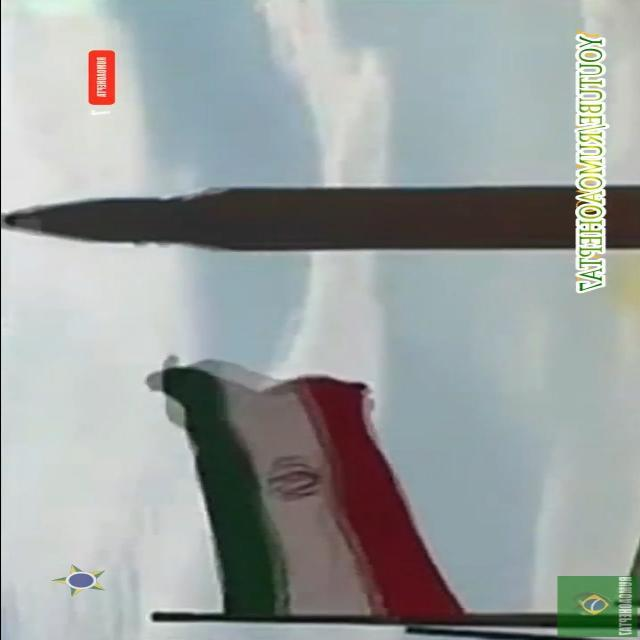missile: (0, 183, 640, 260)
